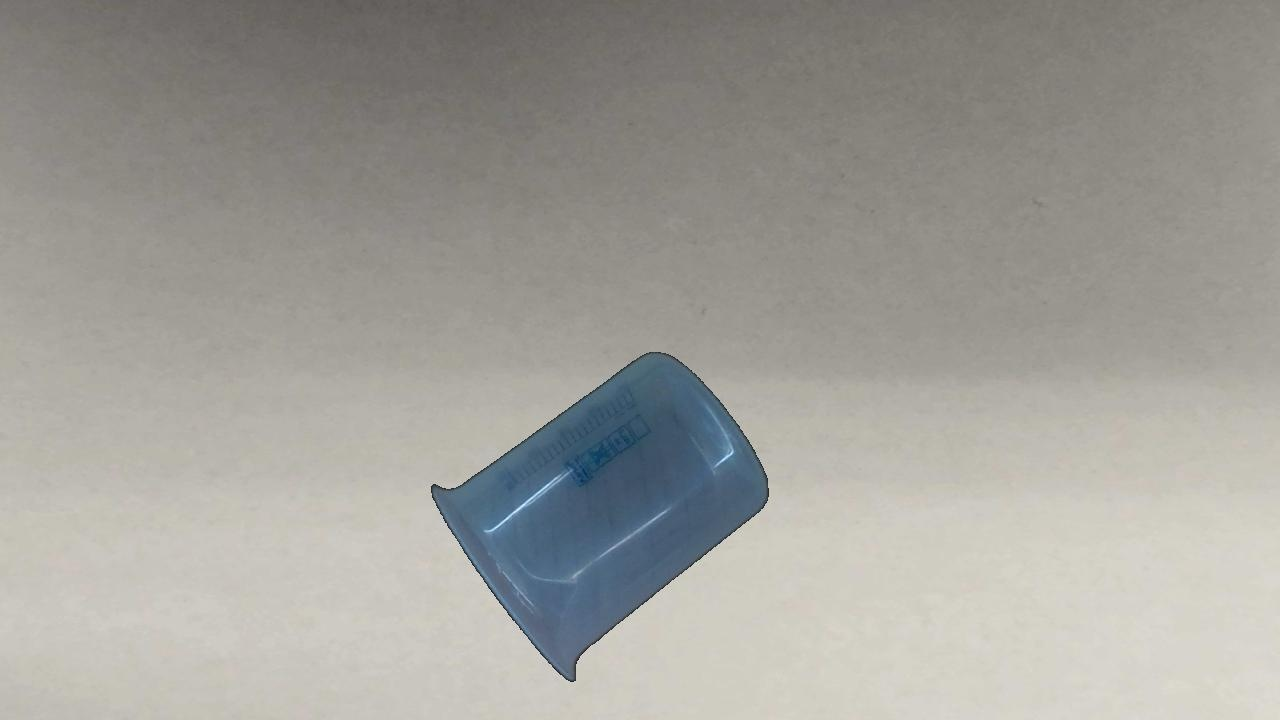becker: (431, 351, 771, 682)
